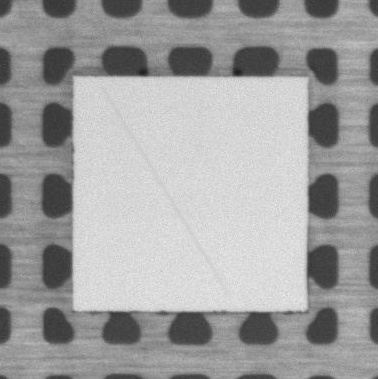DIE_CRACK: (103, 88, 228, 296)
